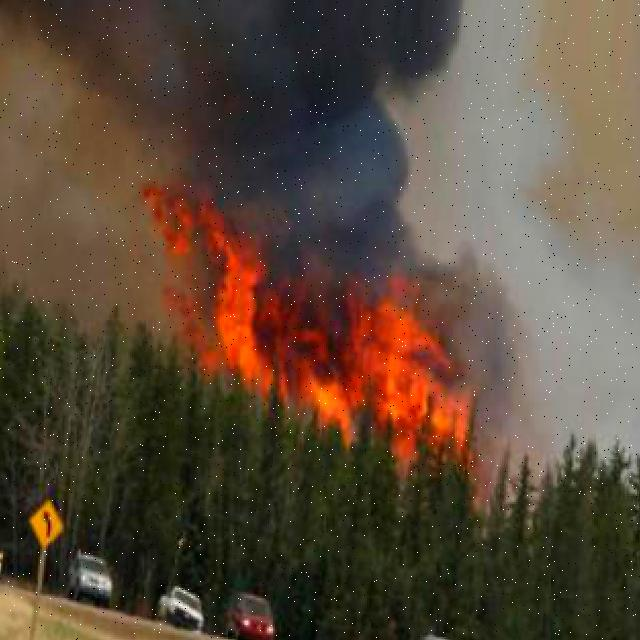fire: (208, 220, 478, 438)
smoke: (0, 0, 496, 267)
